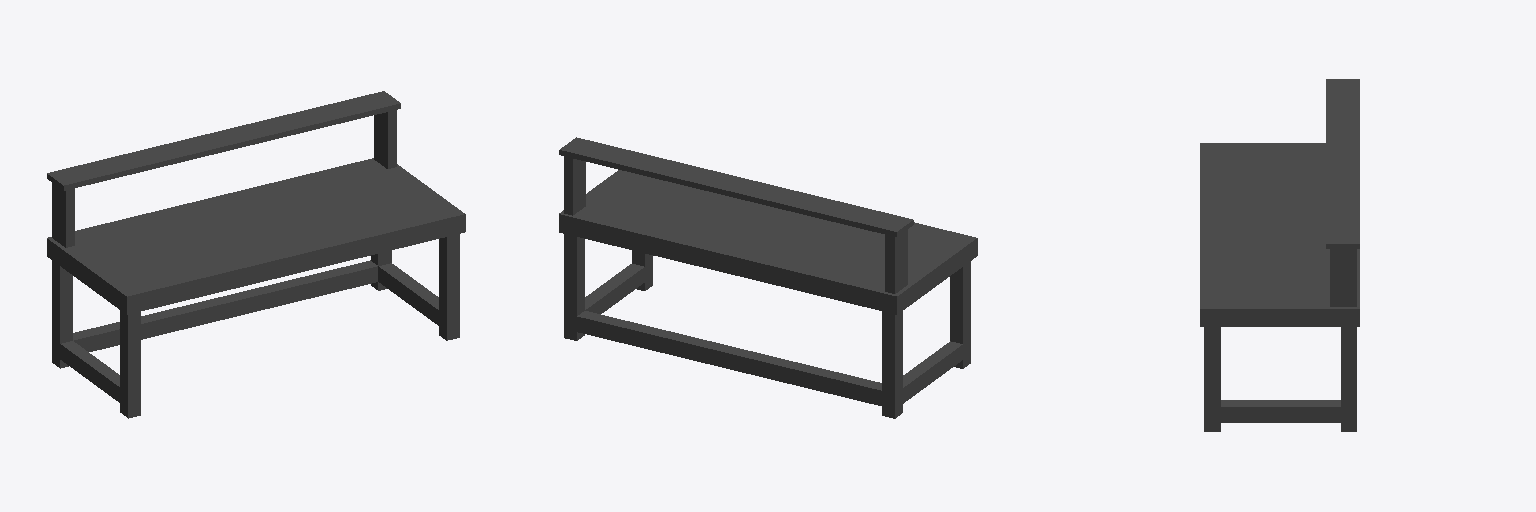
File: CraftingTable_01.obj
3 views of the same model, side by side, from view 1: azimuth 30°, elevation 25°; view 2: azimuth 150°, elevation 25°; view 3: azimuth 270°, elevation 25° (orthographic).
Parts seen in each view (by area): view 1: CraftingTable_01; view 2: CraftingTable_01; view 3: CraftingTable_01.
Boxes of the visible parts, x1=… form: CraftingTable_01: x1=47, y1=91, x2=465, y2=418; CraftingTable_01: x1=559, y1=137, x2=977, y2=418; CraftingTable_01: x1=1200, y1=79, x2=1359, y2=431.
Bounding box in the file's own units: 1.85 × 0.9872 × 0.7605.